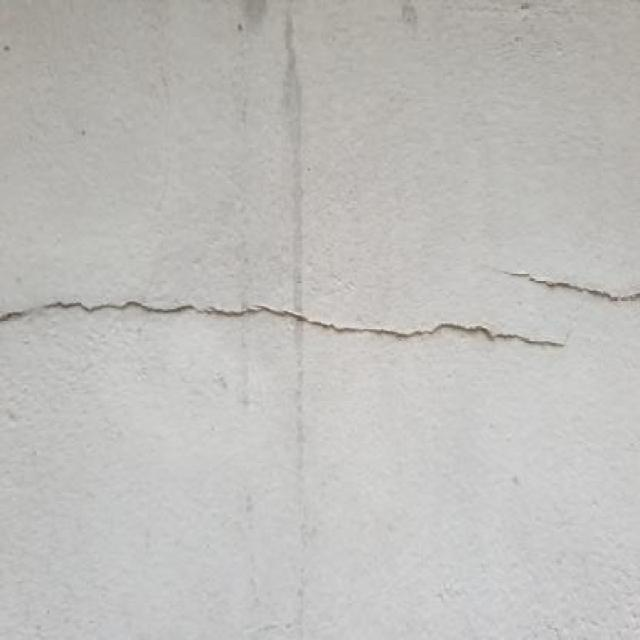horizontal crack: (0, 298, 567, 351), (507, 270, 639, 302)
